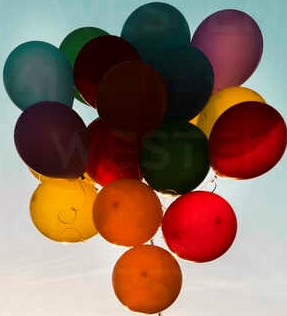Balloon: (209, 101, 287, 181), (15, 102, 88, 179), (162, 190, 238, 263), (194, 10, 265, 87), (138, 120, 208, 194), (93, 179, 163, 247), (113, 245, 182, 313), (96, 62, 165, 127), (3, 41, 72, 104), (29, 178, 95, 242)
